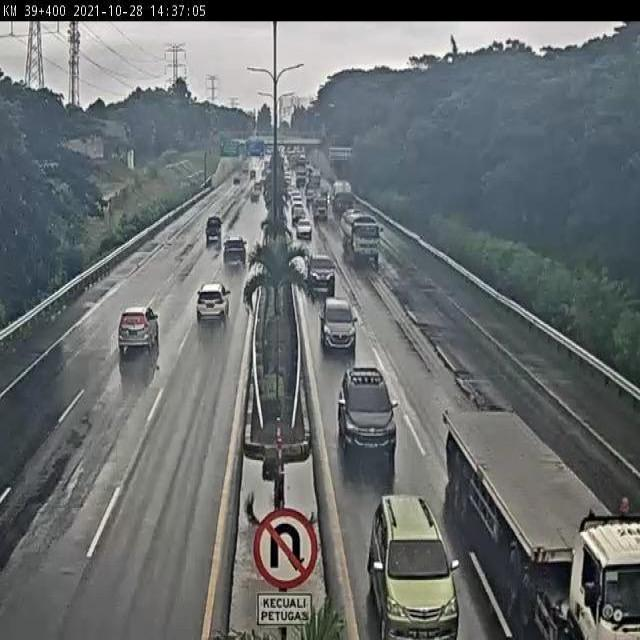big truck: (427, 382, 640, 640), (337, 205, 388, 272), (325, 175, 358, 221)
car: (363, 484, 465, 640), (330, 361, 403, 463), (107, 296, 164, 369), (312, 288, 363, 368), (192, 272, 236, 337), (302, 239, 341, 305), (218, 226, 254, 278), (198, 210, 227, 250), (291, 213, 315, 247)
